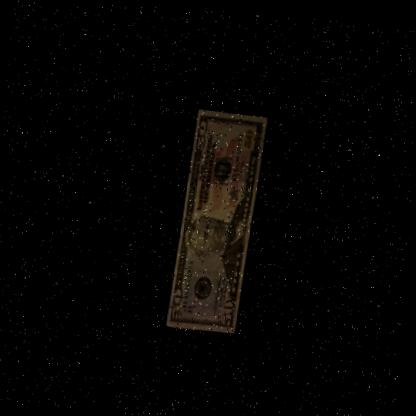fifty-front: (168, 103, 269, 336)
